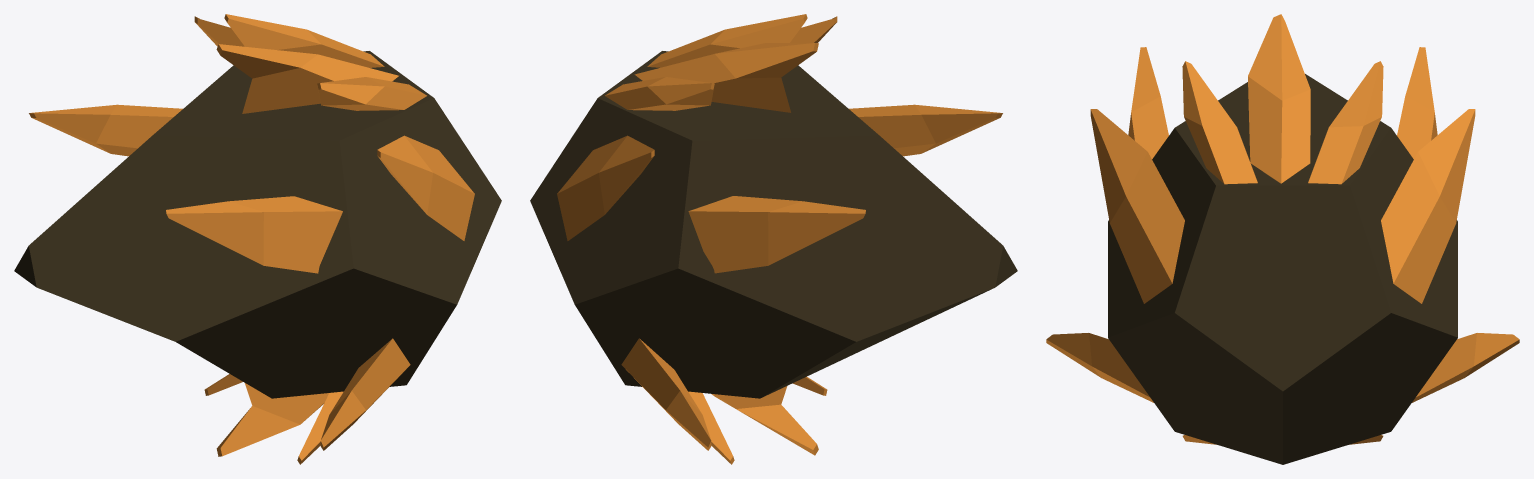
Rendered from meteor4.fbx.
The picture shows the model from 3 angles, left to right: view 1: azimuth 30°, elevation 25°; view 2: azimuth 150°, elevation 25°; view 3: azimuth 270°, elevation 25°; orthographic projection. The views are drawn at different scales.
Visible parts, largest first — view 1: Meteor.003; view 2: Meteor.003; view 3: Meteor.003.
Part boxes in pixels (x1,y1,x2,y2): Meteor.003: [14, 14, 501, 464]; Meteor.003: [530, 14, 1017, 464]; Meteor.003: [1046, 14, 1519, 464].
Bounding box in the file's own units: 217 × 189 × 190.
